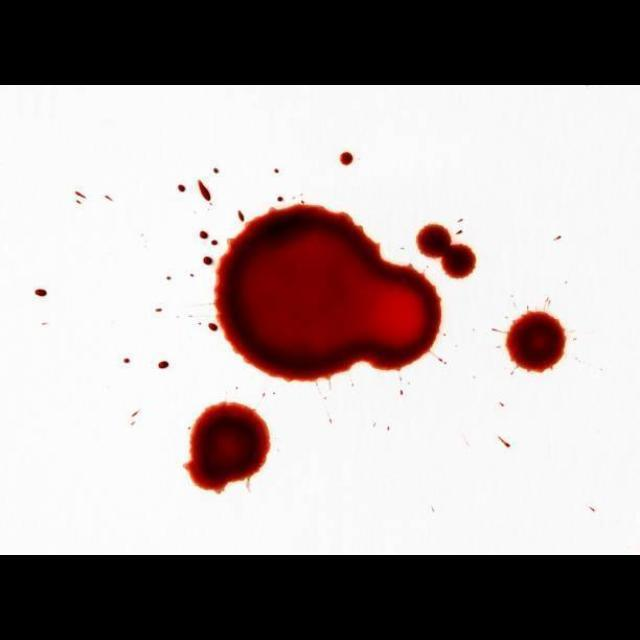blood: (197, 144, 441, 383), (184, 403, 271, 495), (505, 312, 568, 374), (416, 224, 477, 281)
